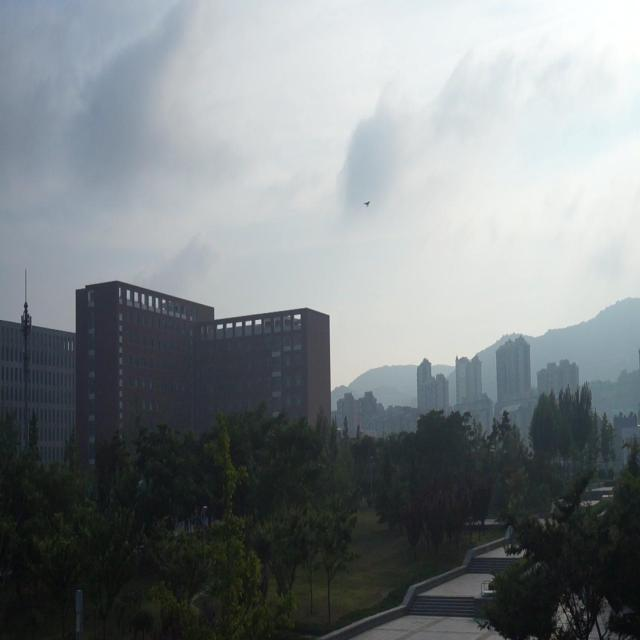drone: (363, 196, 373, 211)
